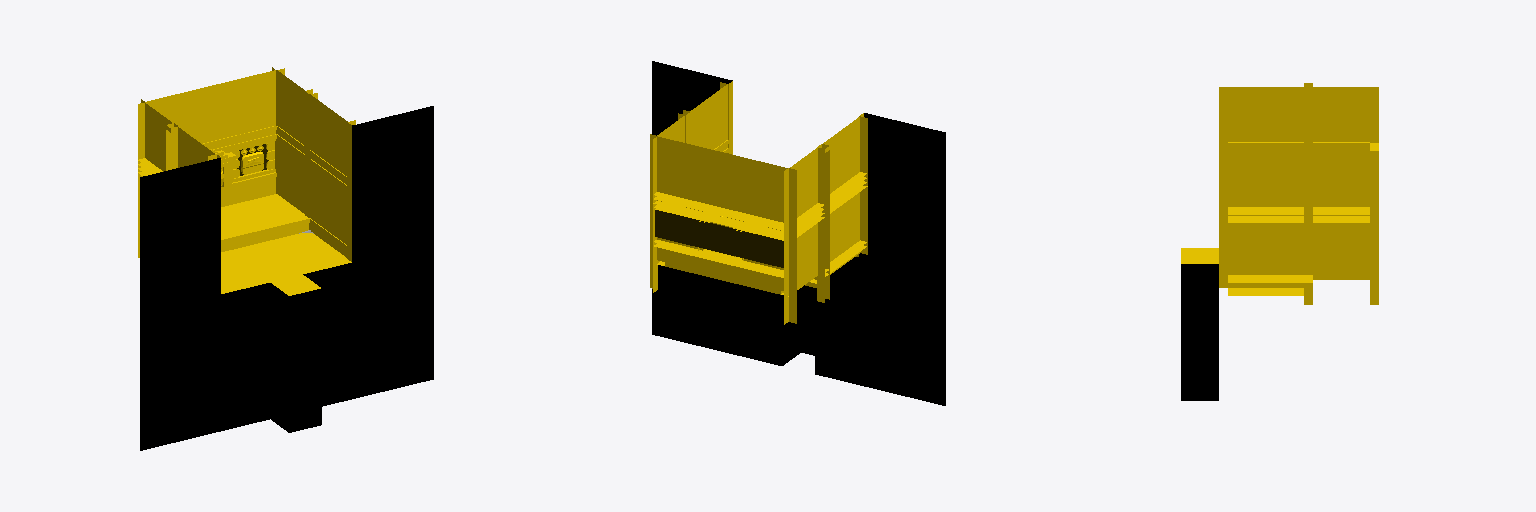
3 renders of one model, left to right at view 1: azimuth 30°, elevation 25°; view 2: azimuth 150°, elevation 25°; view 3: azimuth 270°, elevation 25°, orthographic.
Visible parts, largest first — view 1: pPlane24__Black00, pCube4815__WallBrickBase04, pPlane22__FloorStoneBase02, EdgeStone01_low117__EdgeStoneBlock02, pillar00_low22__EdgeStoneBlock03, pCube4762_1__ReliefStonePattern01, Hand014__ReliefStonePattern07; view 2: pPlane24__Black00, pCube4815__WallBrickBase04, pillar00_low22__EdgeStoneBlock03, EdgeStone01_low117__EdgeStoneBlock02, TileWall00__StoneBrick00; view 3: pCube4815__WallBrickBase04, pillar00_low22__EdgeStoneBlock03, pPlane24__Black00, EdgeStone01_low117__EdgeStoneBlock02, pCube4762_1__ReliefStonePattern01, pPlane22__FloorStoneBase02.
Boxes of the visible parts, x1,y1,x2,y2 form: pPlane24__Black00: [140, 106, 433, 450]; pCube4815__WallBrickBase04: [145, 70, 347, 244]; pPlane22__FloorStoneBase02: [221, 199, 337, 295]; EdgeStone01_low117__EdgeStoneBlock02: [138, 126, 351, 293]; pillar00_low22__EdgeStoneBlock03: [138, 67, 355, 261]; pCube4762_1__ReliefStonePattern01: [207, 130, 346, 257]; Hand014__ReliefStonePattern07: [224, 139, 275, 182]; pPlane24__Black00: [652, 61, 945, 405]; pCube4815__WallBrickBase04: [657, 84, 859, 290]; pillar00_low22__EdgeStoneBlock03: [650, 81, 867, 324]; EdgeStone01_low117__EdgeStoneBlock02: [653, 140, 867, 296]; TileWall00__StoneBrick00: [655, 210, 783, 267]; pCube4815__WallBrickBase04: [1228, 87, 1369, 274]; pillar00_low22__EdgeStoneBlock03: [1219, 83, 1378, 304]; pPlane24__Black00: [1181, 264, 1218, 400]; EdgeStone01_low117__EdgeStoneBlock02: [1228, 142, 1378, 295]; pCube4762_1__ReliefStonePattern01: [1228, 147, 1369, 287]; pPlane22__FloorStoneBase02: [1181, 248, 1218, 263].
Size of the model in its own units: 91.44 by 81.28 by 53.34.
Materials: 10 (3 with a texture image).